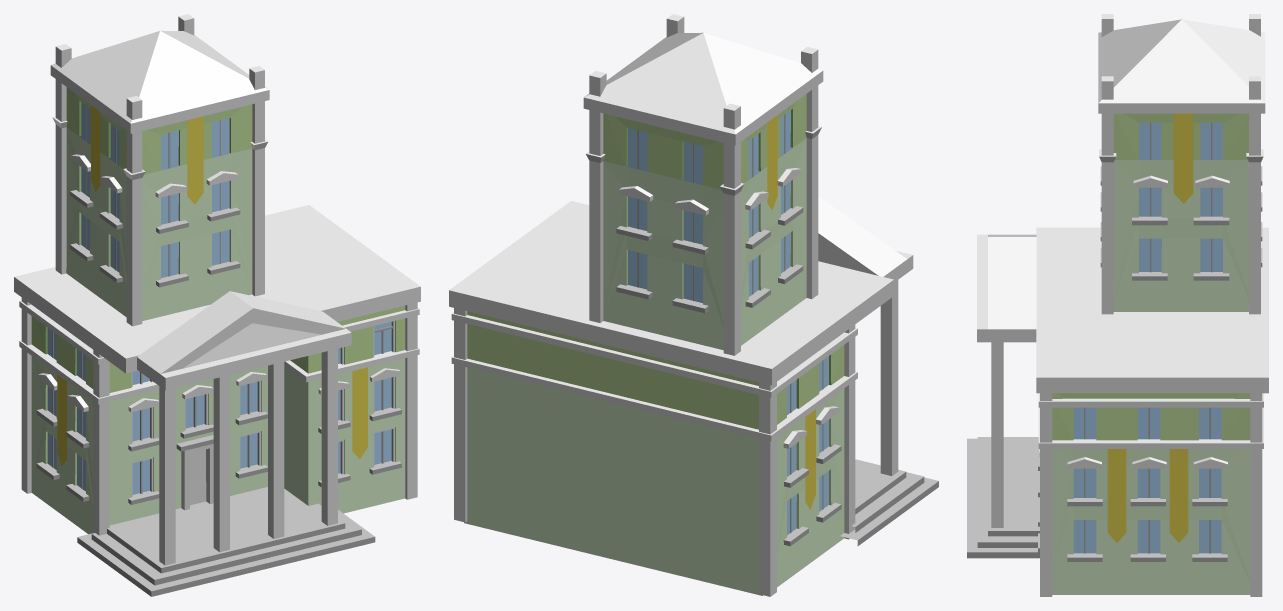
Rendered from house_art_009.fbx.
The picture shows the model from 3 angles, left to right: view 1: azimuth 30°, elevation 25°; view 2: azimuth 150°, elevation 25°; view 3: azimuth 270°, elevation 25°; orthographic projection. The views are drawn at different scales.
Visible parts, largest first — view 1: house_art_009; view 2: house_art_009; view 3: house_art_009.
Boxes of the visible parts, <box> form: house_art_009: <box>14,14,420,596</box>; house_art_009: <box>449,14,938,596</box>; house_art_009: <box>967,14,1268,596</box>.
Size of the model in its own units: 1204 by 1767 by 998.
